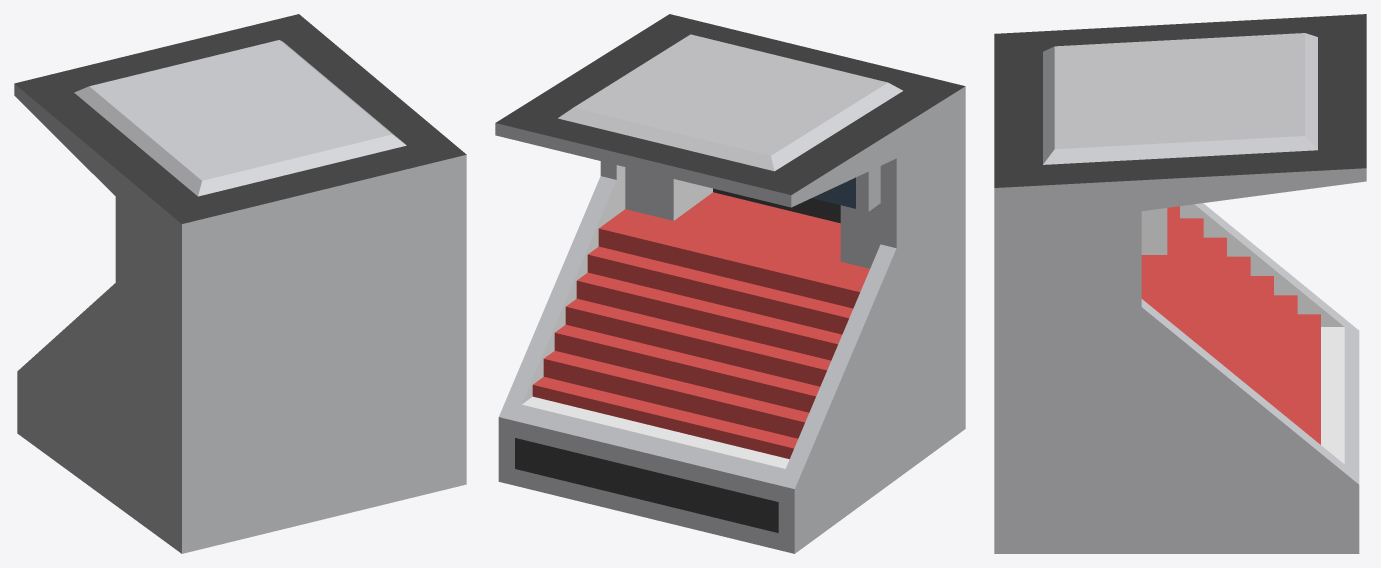
File: grandStandCovered.fbx
The picture shows the model from 3 angles, left to right: view 1: azimuth 30°, elevation 25°; view 2: azimuth 150°, elevation 25°; view 3: azimuth 270°, elevation 25°; orthographic projection. The views are drawn at different scales.
Parts seen in each view (by area): view 1: grandStandCovered; view 2: grandStandCovered; view 3: grandStandCovered.
Part boxes in pixels (x1,y1,x2,y2): grandStandCovered: (14, 14, 466, 553); grandStandCovered: (495, 14, 965, 553); grandStandCovered: (994, 14, 1366, 553).
Size of the model in its own units: 10 by 11.86 by 10.2.
